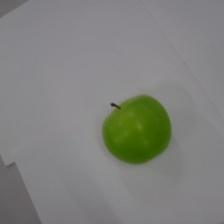green: (101, 92, 172, 165)
